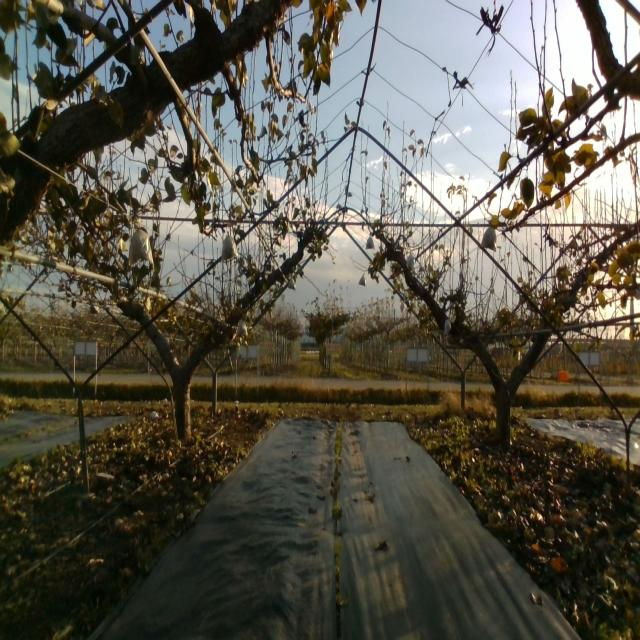pearbags: (127, 220, 156, 269), (480, 222, 498, 251), (222, 232, 235, 262)
